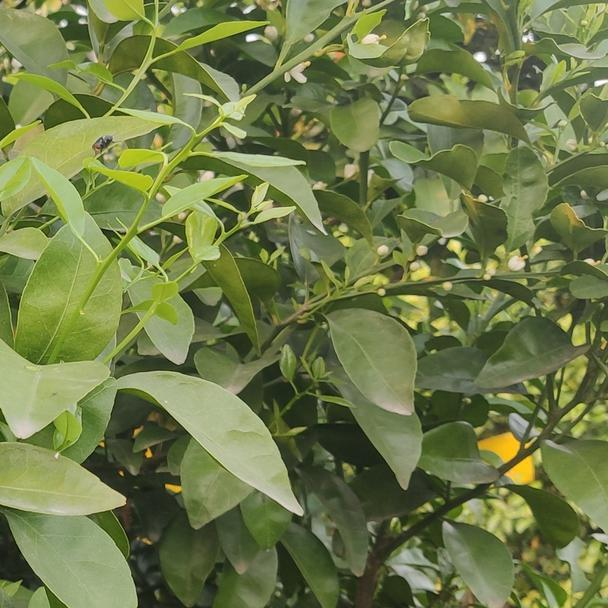shoot: (51, 86, 294, 260)
